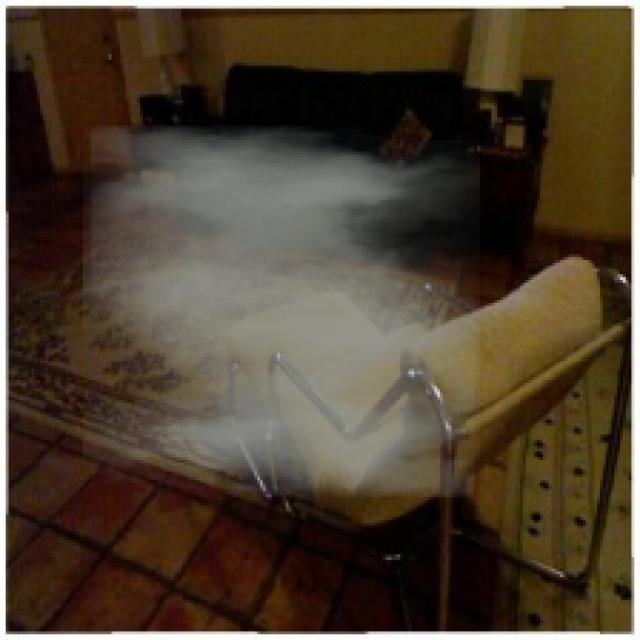Smoke: (83, 126, 480, 497)
